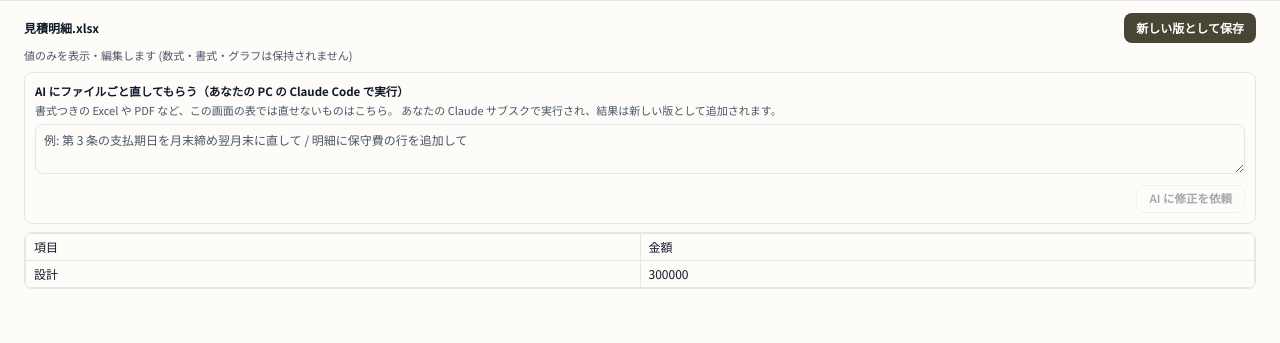
Scenario: SheetEditor (GAP-163) › セルを直して保存すると新バージョンとして保存され、その旨を伝える
The image size is (1280, 343).
Replace the text in the field named "明細 2行 2列" with "450000" at coordinates (947, 274), box [640,260,1254,286]
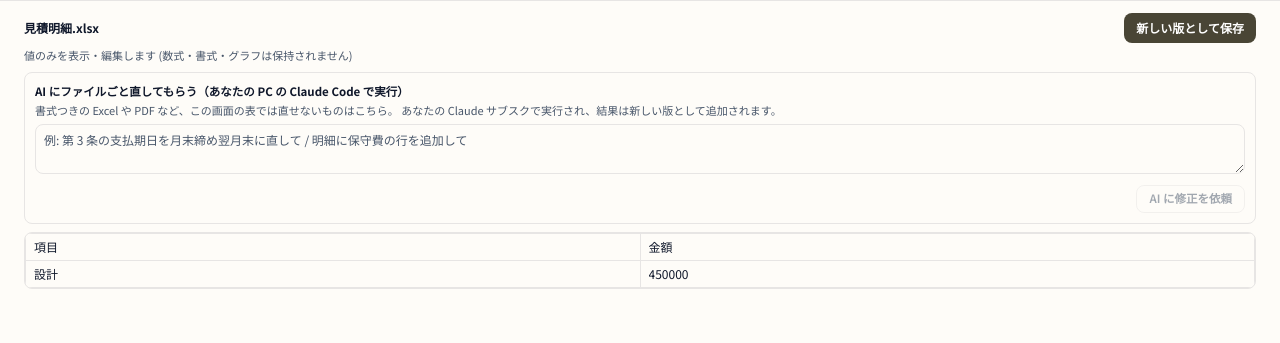
Click the button "新しい版として保存" at coordinates (1190, 28), box [1124,13,1256,43]
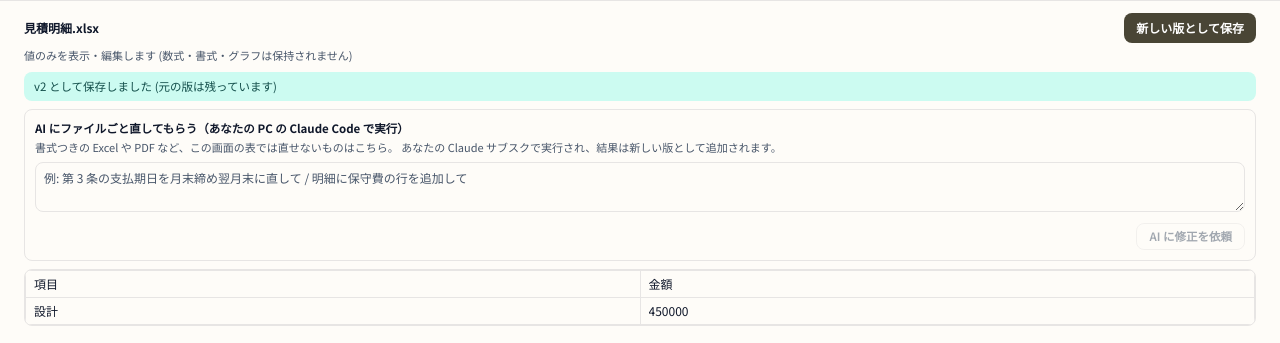
expect the message reads "v2 として保存しました (元の版は残っています)": met, box [34,78,277,94]
